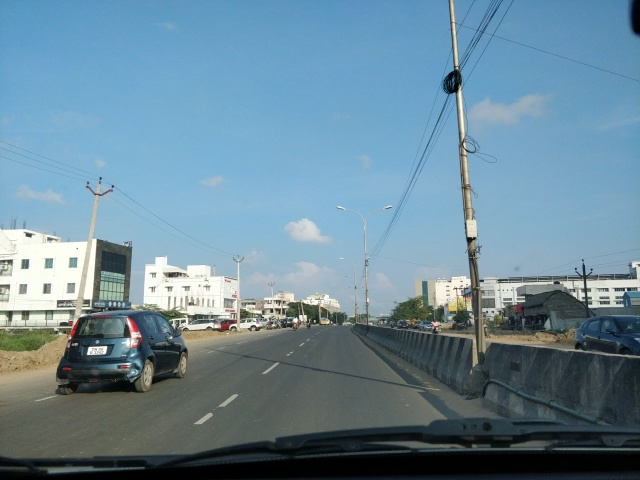car: (58, 308, 189, 389), (575, 314, 639, 358), (231, 318, 266, 333), (185, 319, 222, 333), (218, 318, 239, 330), (419, 320, 434, 331), (397, 319, 410, 331), (411, 320, 420, 331)
motorbike: (482, 315, 490, 341), (430, 318, 441, 335), (305, 316, 314, 331), (291, 317, 299, 332)
truck: (318, 318, 332, 326)
